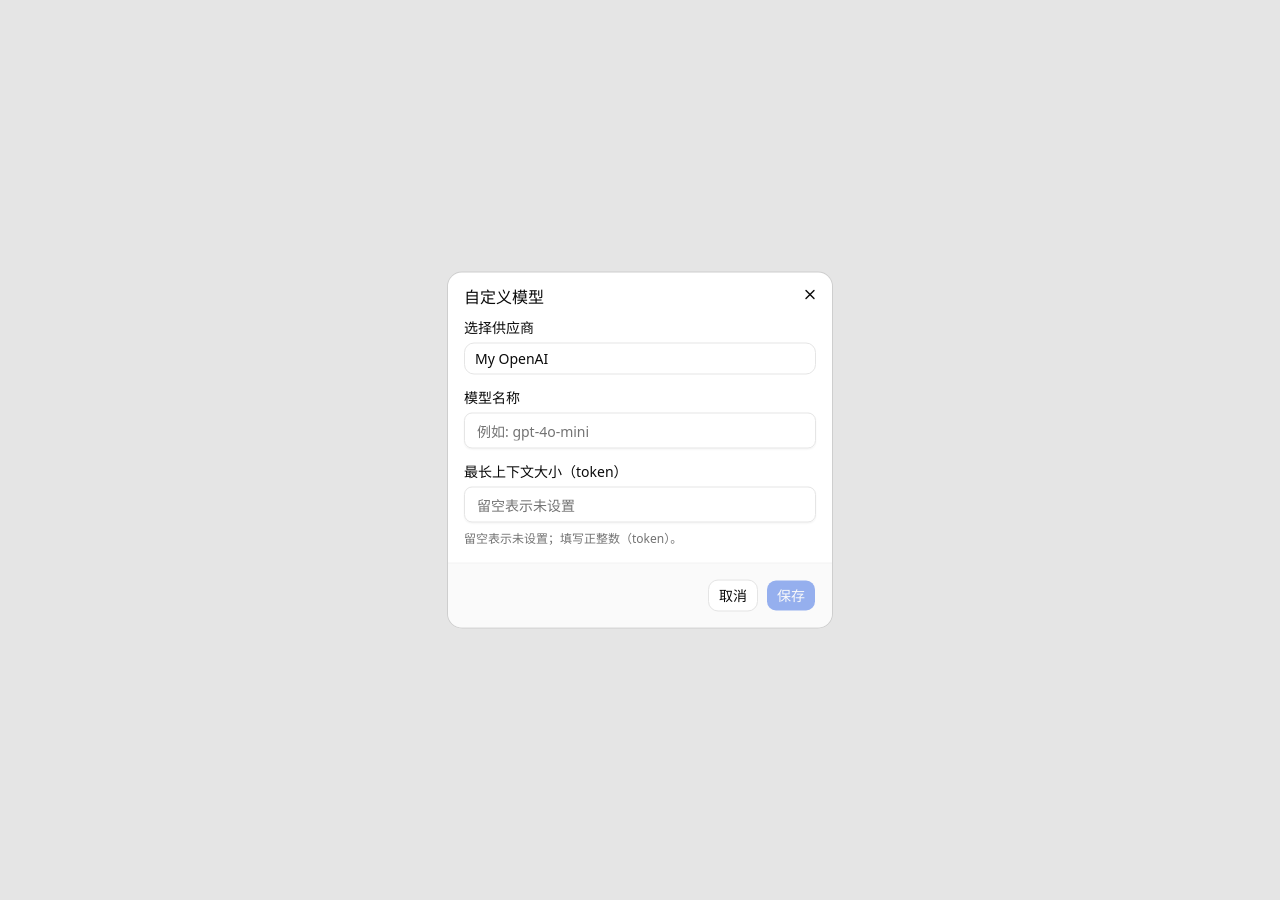
Test: CustomModelDialog › computes the duplicate check after trimming
Type "  gpt-4o  " into the field labelled "模型名称" at {"x": 640, "y": 430}, box [464,412,816,448]
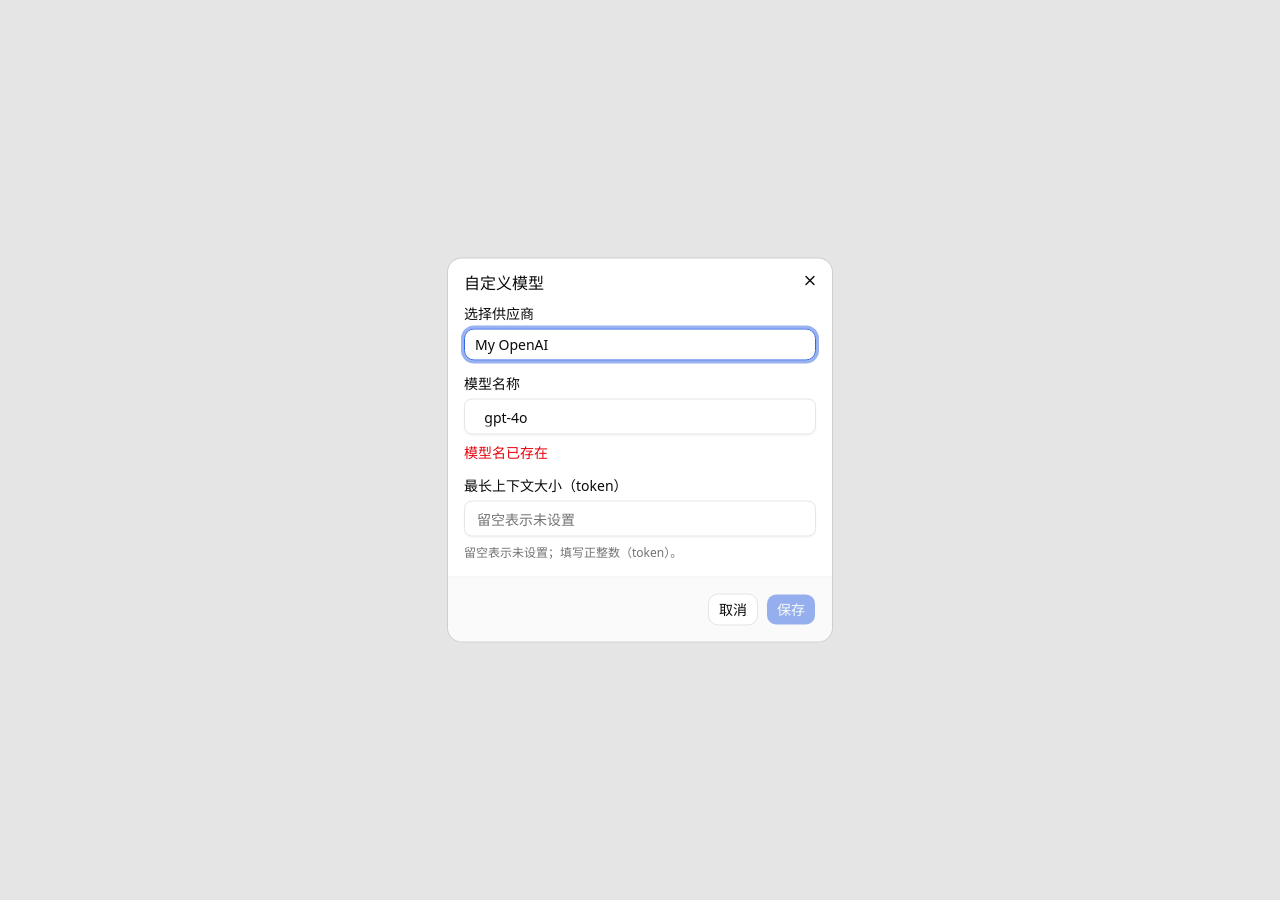
Now the text "模型名已存在" is shown, box [464,442,548,462]
